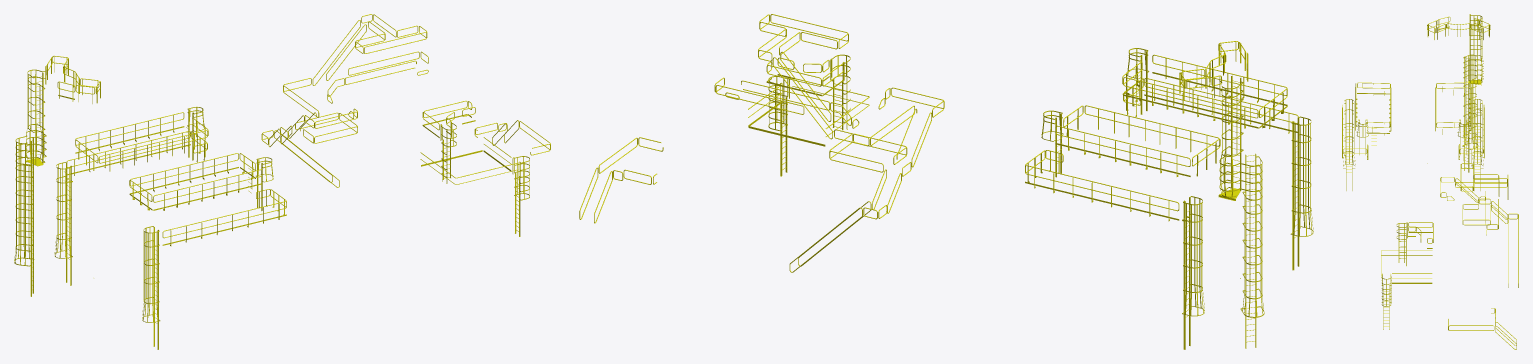
Rendered from amarillo.glb.
3 views of the same model, side by side, from view 1: azimuth 30°, elevation 25°; view 2: azimuth 150°, elevation 25°; view 3: azimuth 270°, elevation 25° (orthographic). The views are drawn at different scales.
Visible parts, largest first — view 1: Solid60.005, Solid35.006, Solid41.009, Solid45.012, Solid19.022, Solid40.012, Solid8.076, Solid9.035; view 2: Solid35.006, Solid60.005, Solid19.022, Solid8.076, Solid40.012, Solid41.009, Solid45.012, Solid9.035; view 3: Solid60.005, Solid35.006, Solid510, Solid46.005, Solid520, Solid29.006, Solid521.
Boxes of the visible parts, <box> form: Solid60.005: <box>142,226,160,349</box>; Solid35.006: <box>54,162,72,285</box>; Solid41.009: <box>162,201,286,246</box>; Solid45.012: <box>153,169,262,210</box>; Solid19.022: <box>67,131,190,175</box>; Solid40.012: <box>130,153,238,194</box>; Solid8.076: <box>75,112,184,153</box>; Solid9.035: <box>100,130,206,171</box>; Solid35.006: <box>1182,196,1204,349</box>; Solid60.005: <box>1290,116,1313,270</box>; Solid19.022: <box>1025,165,1179,221</box>; Solid8.076: <box>1055,126,1190,176</box>; Solid40.012: <box>1123,77,1258,128</box>; Solid41.009: <box>1144,78,1297,133</box>; Solid45.012: <box>1152,55,1287,106</box>; Solid9.035: <box>1086,105,1217,152</box>; Solid60.005: <box>1343,99,1355,190</box>; Solid35.006: <box>1471,99,1483,190</box>; Solid510: <box>1468,58,1469,172</box>; Solid46.005: <box>1356,119,1368,154</box>; Solid520: <box>1465,57,1466,144</box>; Solid29.006: <box>1457,119,1469,154</box>; Solid521: <box>1471,55,1472,142</box>.
Size of the model in its own units: 35.99 by 14.81 by 14.45.
